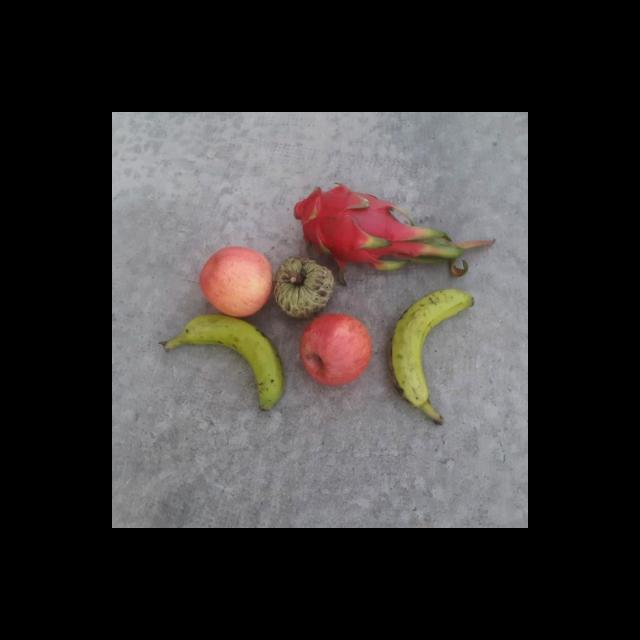Sakya fruit: (268, 254, 336, 321)
apple: (301, 312, 373, 387), (198, 248, 272, 320)
banana: (160, 312, 292, 413), (388, 286, 474, 432)
pitaya: (294, 184, 399, 261)
